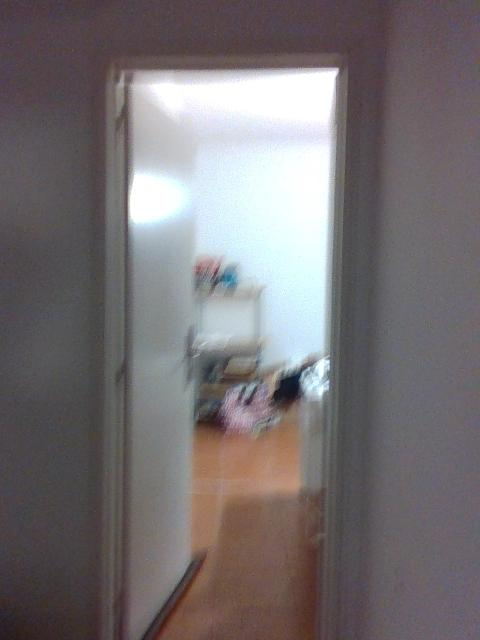open_door: (107, 47, 359, 639)
